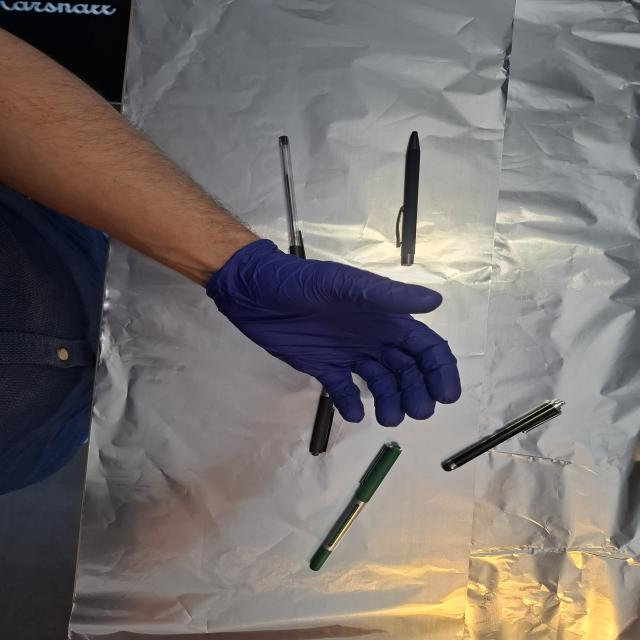glove_on: (205, 239, 468, 429)
